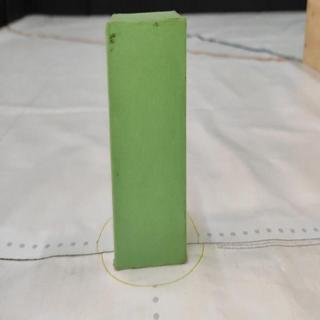greenbox: (104, 11, 189, 272)
